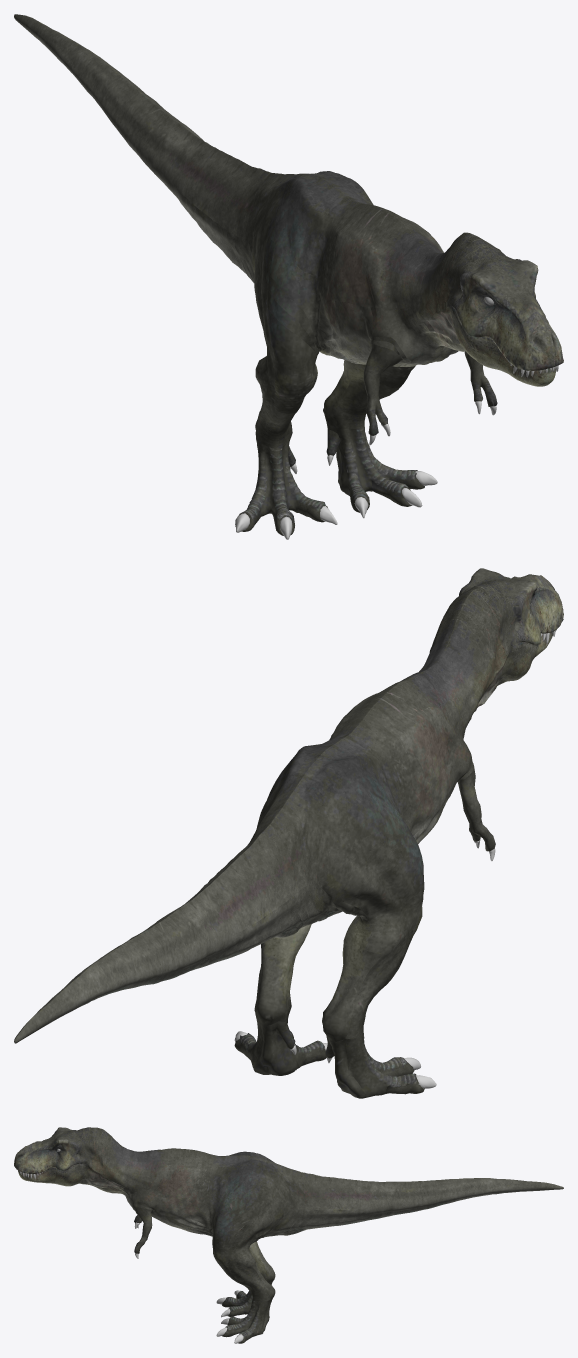
File: TrexHigh.fbx
The picture shows the model from 3 angles, top to bottom: view 1: azimuth 30°, elevation 25°; view 2: azimuth 150°, elevation 25°; view 3: azimuth 270°, elevation 25°; orthographic projection. The views are drawn at different scales.
Visible parts, largest first — view 1: bodyOSDM___Low_Poly; view 2: bodyOSDM___Low_Poly; view 3: bodyOSDM___Low_Poly.
Part boxes in pixels (box(x1,y1,x2,y2)): bodyOSDM___Low_Poly: box(14, 14, 563, 539); bodyOSDM___Low_Poly: box(14, 568, 563, 1098); bodyOSDM___Low_Poly: box(14, 1127, 563, 1343).
Size of the model in its own units: 111 by 200 by 515.
